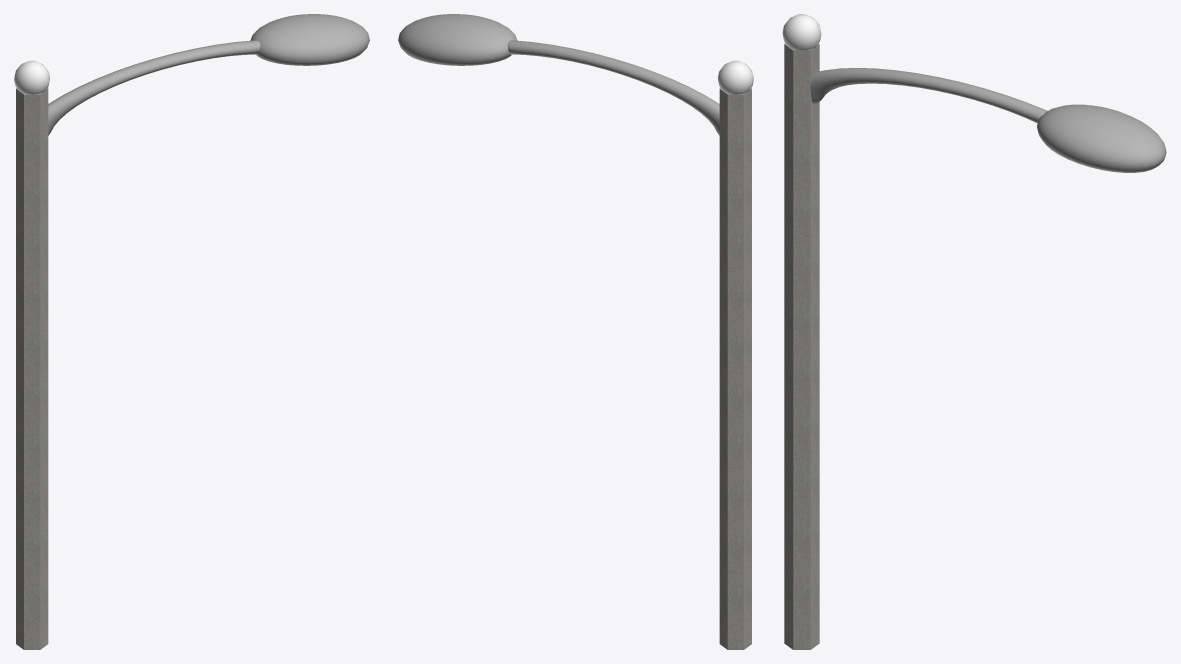
The model's file is Lamp3.obj.
3 renders of one model, left to right at view 1: azimuth 30°, elevation 25°; view 2: azimuth 150°, elevation 25°; view 3: azimuth 330°, elevation 25°, orthographic. The views are drawn at different scales.
Parts seen in each view (by area): view 1: Pole_Cylinder, LightPart_Sphere, Torus.001, Sphere_Sphere.001; view 2: Pole_Cylinder, LightPart_Sphere, Torus.001, Sphere_Sphere.001; view 3: Pole_Cylinder, LightPart_Sphere, Torus.001, Sphere_Sphere.001.
Boxes of the visible parts, x1,y1,x2,y2 form: Pole_Cylinder: (16,88,48,649); LightPart_Sphere: (250,14,369,65); Torus.001: (48,40,260,135); Sphere_Sphere.001: (14,60,49,94); Pole_Cylinder: (719,88,751,649); LightPart_Sphere: (398,14,517,65); Torus.001: (507,40,719,135); Sphere_Sphere.001: (718,60,753,94); Pole_Cylinder: (784,43,819,649); LightPart_Sphere: (1037,104,1166,172); Torus.001: (810,68,1047,123); Sphere_Sphere.001: (782,14,821,50).
Size of the model in its own units: 9.13 by 14.53 by 2.
Materials: 3 (3 with a texture image).
